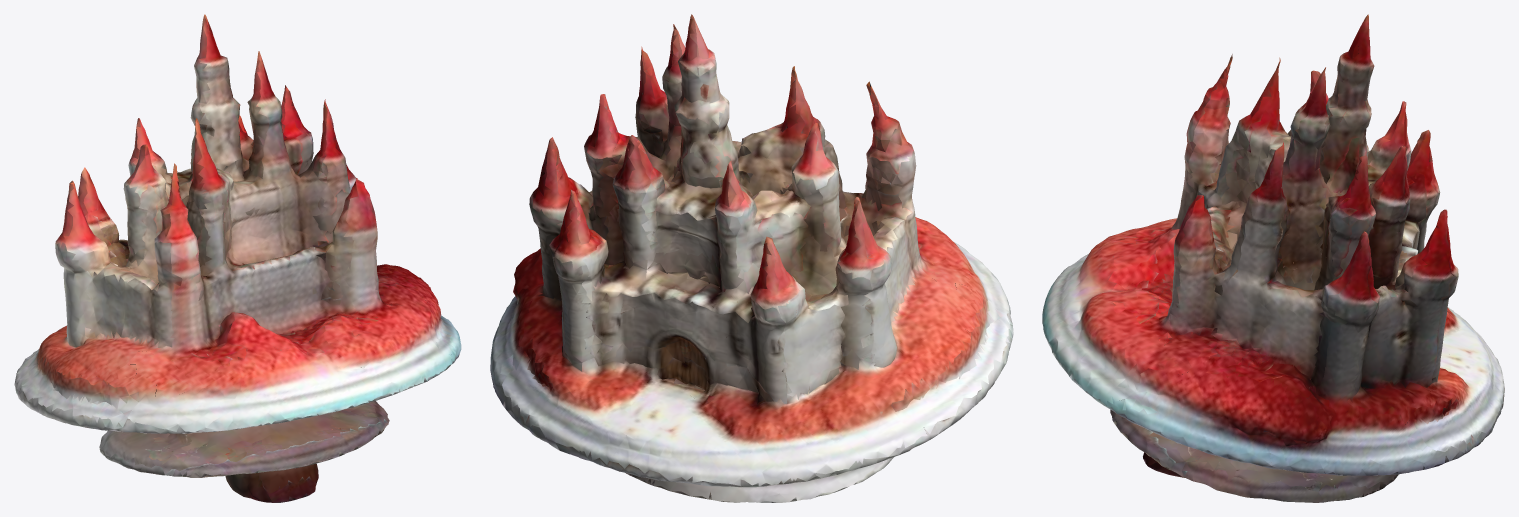
3 views of the same model, side by side, from view 1: azimuth 30°, elevation 25°; view 2: azimuth 150°, elevation 25°; view 3: azimuth 270°, elevation 25° (orthographic). The views are drawn at different scales.
Visible parts, largest first — view 1: world; view 2: world; view 3: world.
Boxes of the visible parts, bbox=[...] form: world: bbox=[14, 14, 461, 502]; world: bbox=[490, 14, 1013, 502]; world: bbox=[1042, 14, 1504, 502].
Size of the model in its own units: 0.9697 by 0.9901 by 0.897.
1 material, 1 textured.
